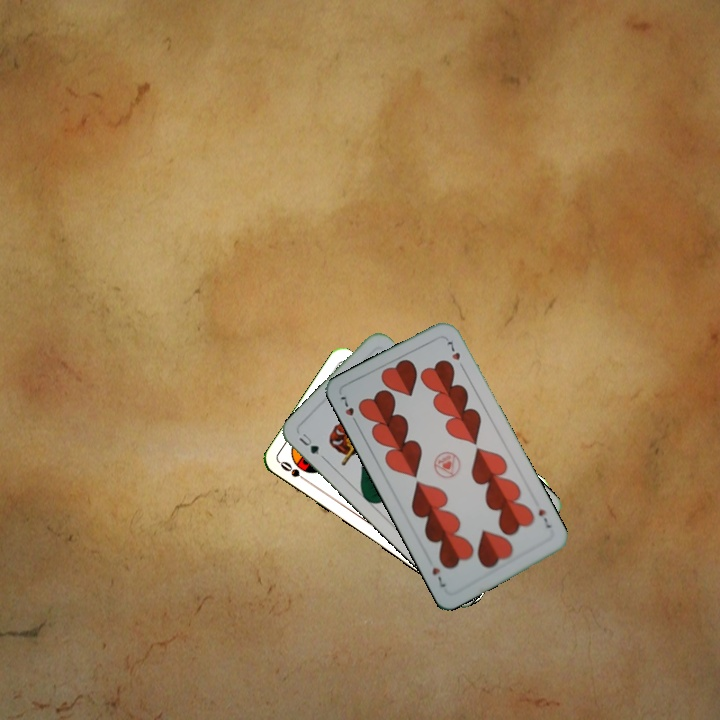GU: (295, 429, 322, 457)
H7: (336, 392, 361, 428), (534, 505, 554, 531)
SO: (276, 457, 312, 486)
